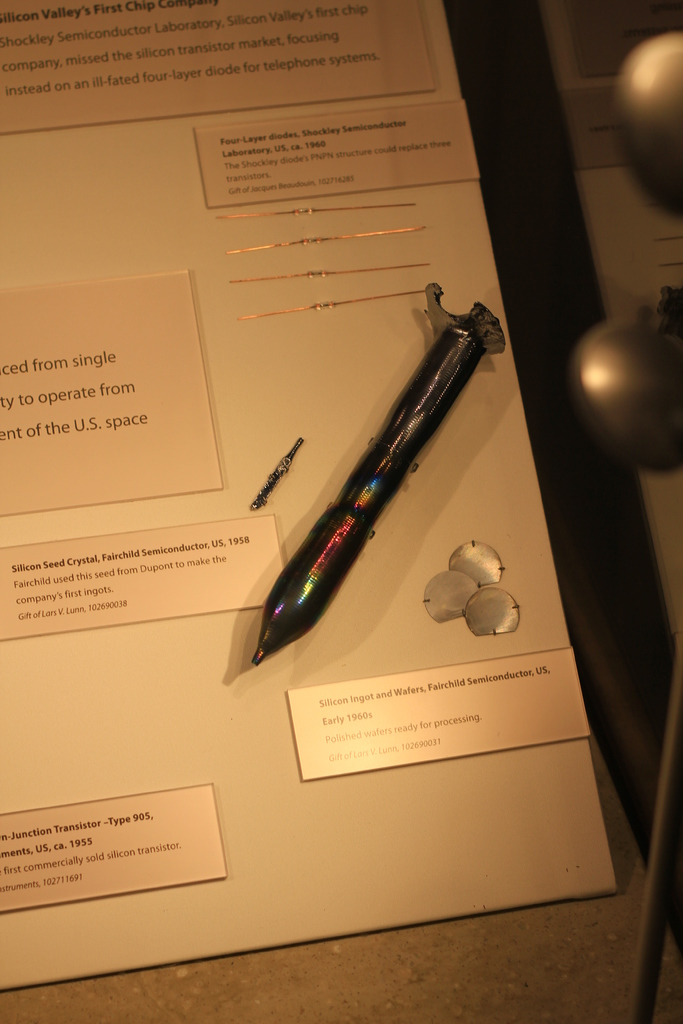Pen: (239, 277, 513, 665)
